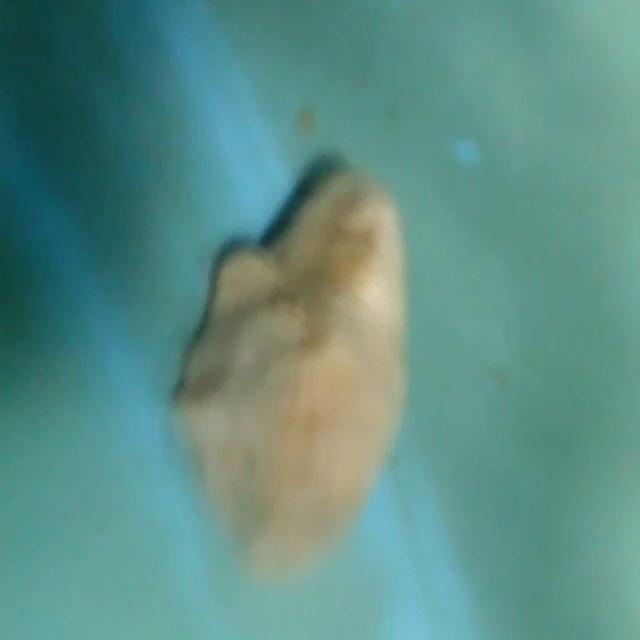rock: (168, 175, 420, 581)
